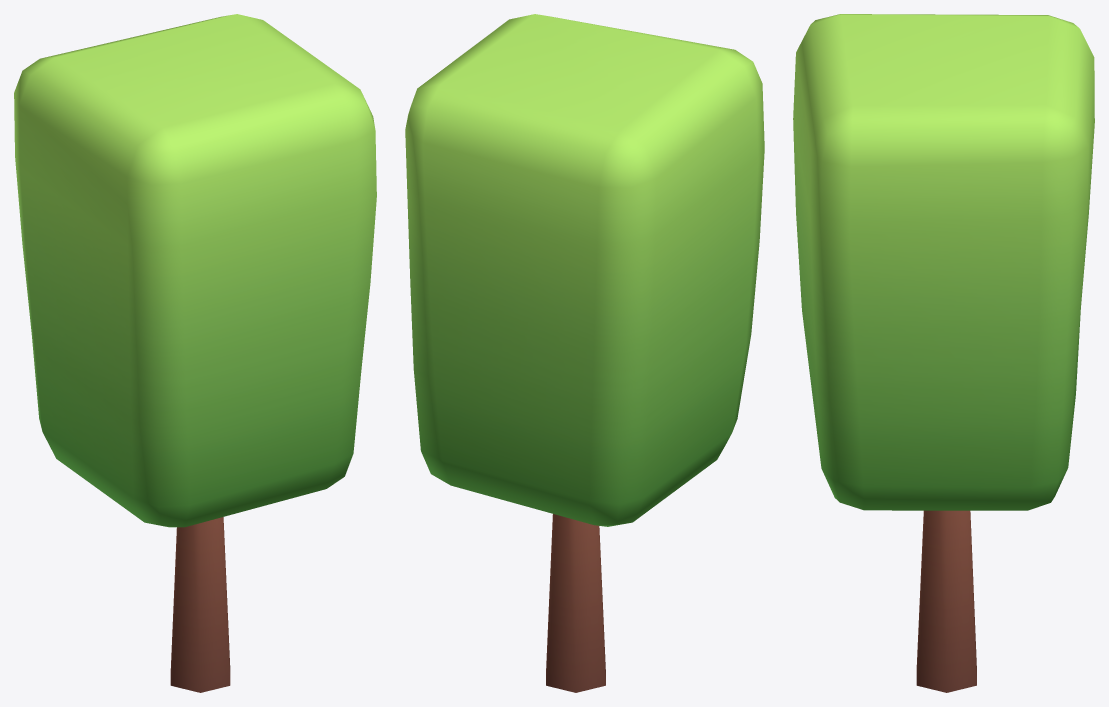
Rendered from city2-tree-01.glb.
The picture shows the model from 3 angles, left to right: view 1: azimuth 30°, elevation 25°; view 2: azimuth 150°, elevation 25°; view 3: azimuth 270°, elevation 25°; orthographic projection.
Visible parts, largest first — view 1: Tree_01; view 2: Tree_01; view 3: Tree_01.
Part boxes in pixels (<box>): Tree_01: <box>14,14,376,692</box>; Tree_01: <box>405,14,764,692</box>; Tree_01: <box>793,14,1094,692</box>.
Bounding box in the file's own units: 2.77 × 6.3 × 2.78.
Materials: 1 (1 with a texture image).
